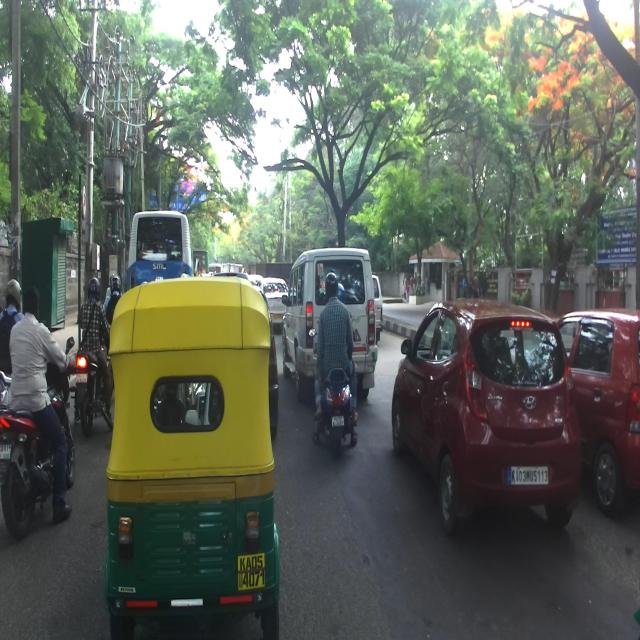autorickshaw: (104, 274, 281, 640)
bus: (126, 211, 198, 292), (192, 246, 208, 277)
car: (391, 297, 583, 535), (552, 309, 640, 516), (281, 247, 378, 400), (256, 278, 289, 326), (371, 273, 383, 344), (199, 271, 211, 277)
motorcycle: (0, 334, 75, 538), (71, 328, 113, 438)
scooter: (308, 327, 352, 456)
